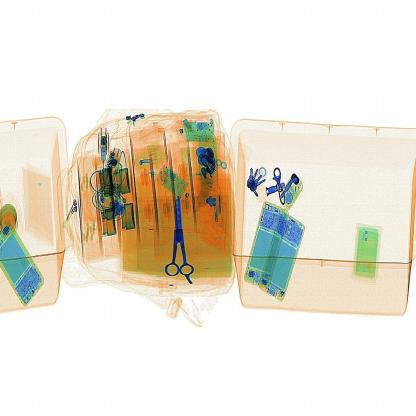gun: (146, 183, 211, 289)
